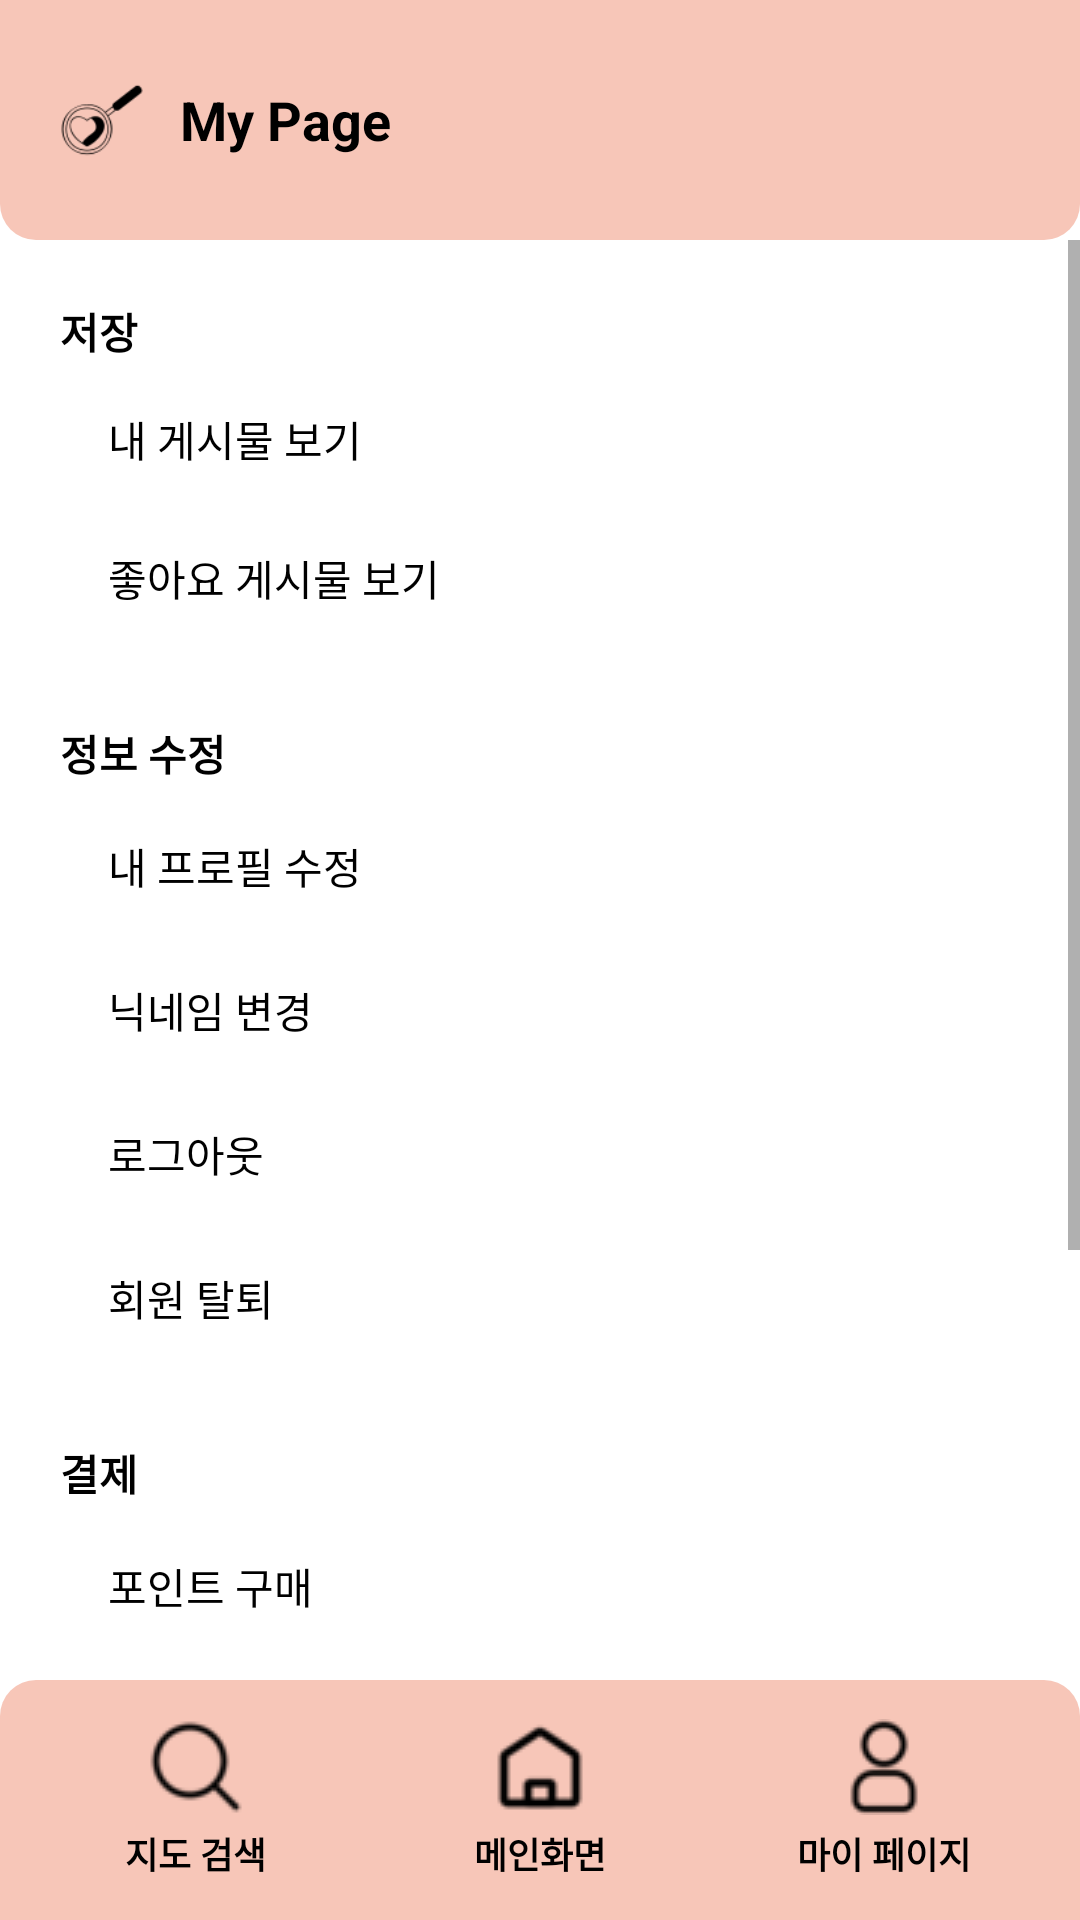

Screen size 1080px×1920px. Icon name, then its center in pixels as (x=x, y=y):
user: (x=884, y=1767)
